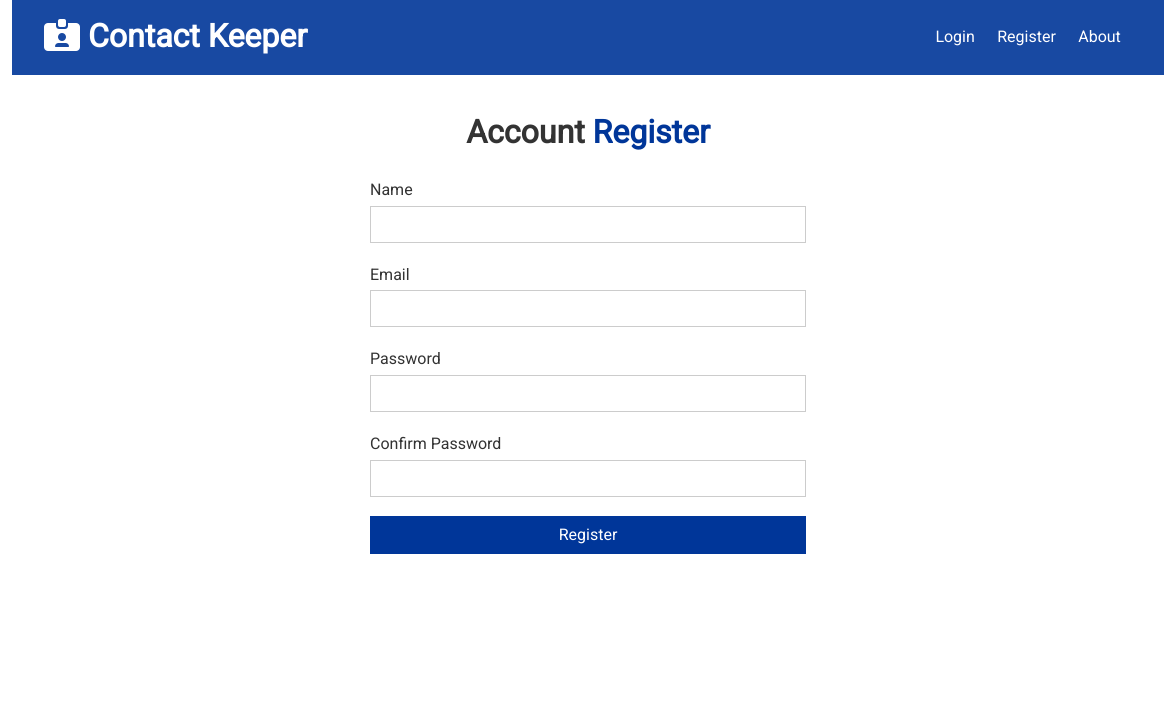
Test: Register User › should allow user to register successfully
The width and height of the screenshot is (1176, 720).
Type "Harry Potter" into the field with test id "register-name". click: x=588, y=224
box: [370,206,806,242]
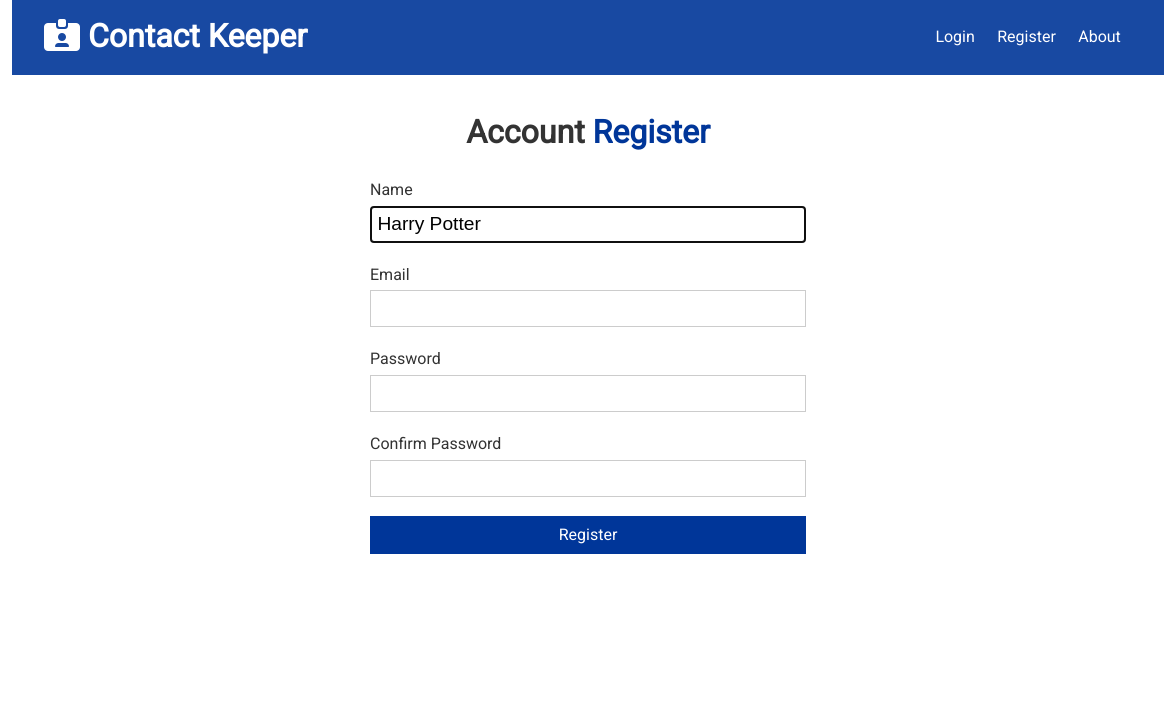
Type "hpotter@nascentpixels.io" into the field with test id "register-email". click: x=588, y=309
box: [370,290,806,327]
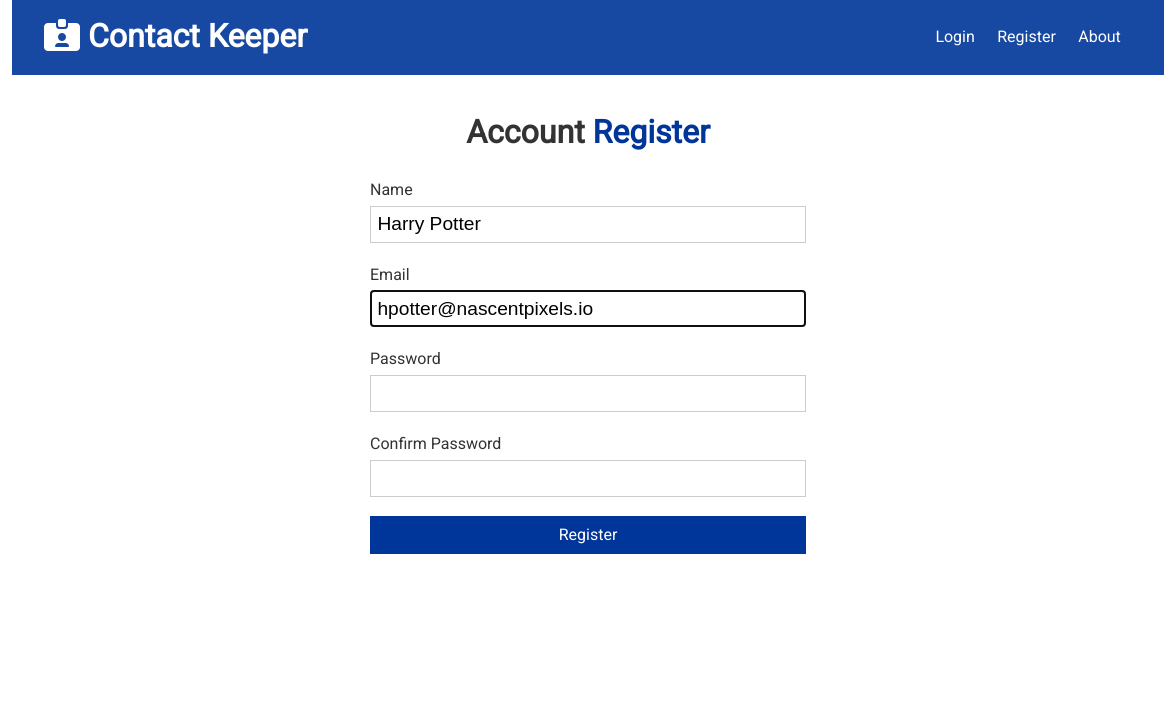
Type "abc123" into the password field with test id "register-password". click: x=588, y=394
box: [370,375,806,412]
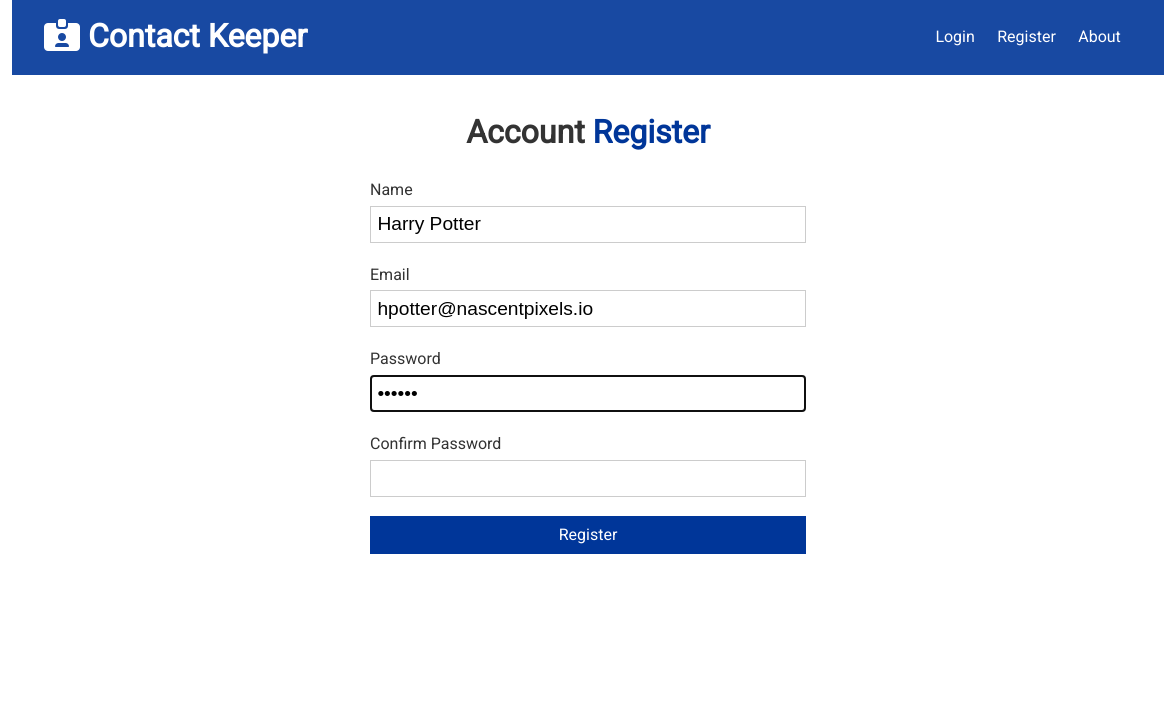
Type "abc123" into the password field with test id "register-password2". click: x=588, y=478
box: [370,460,806,497]
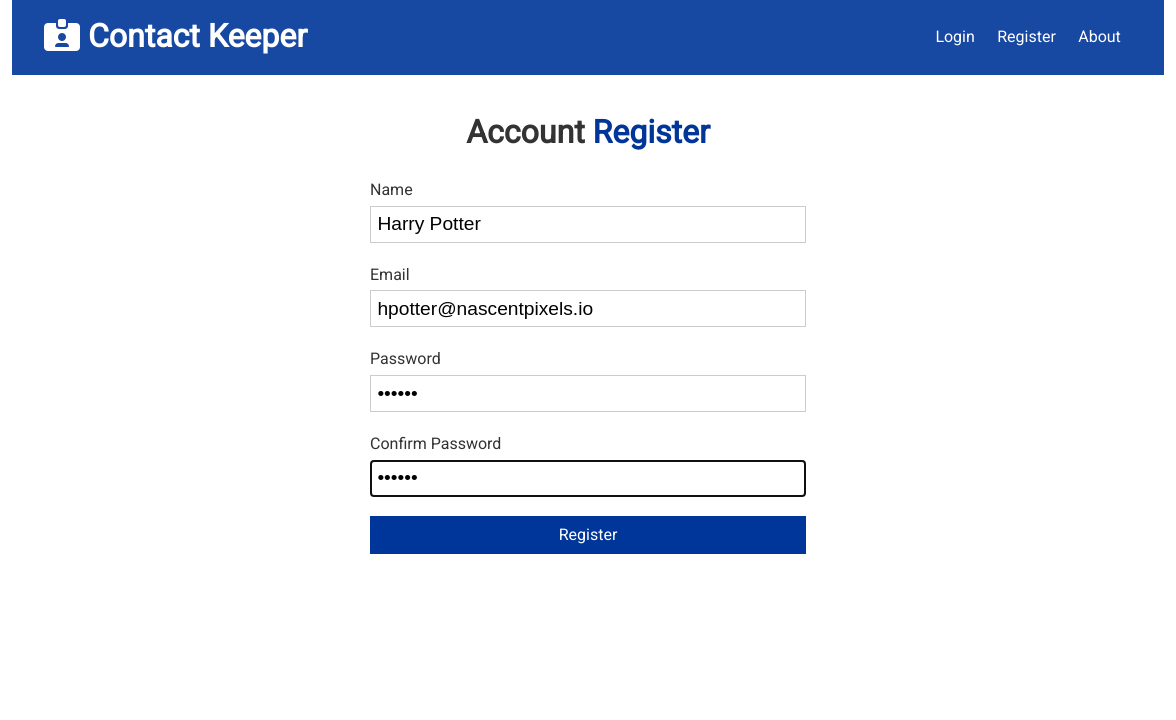
Click the button with test id "submit-register". click: x=588, y=535
box: [370,516,806,554]
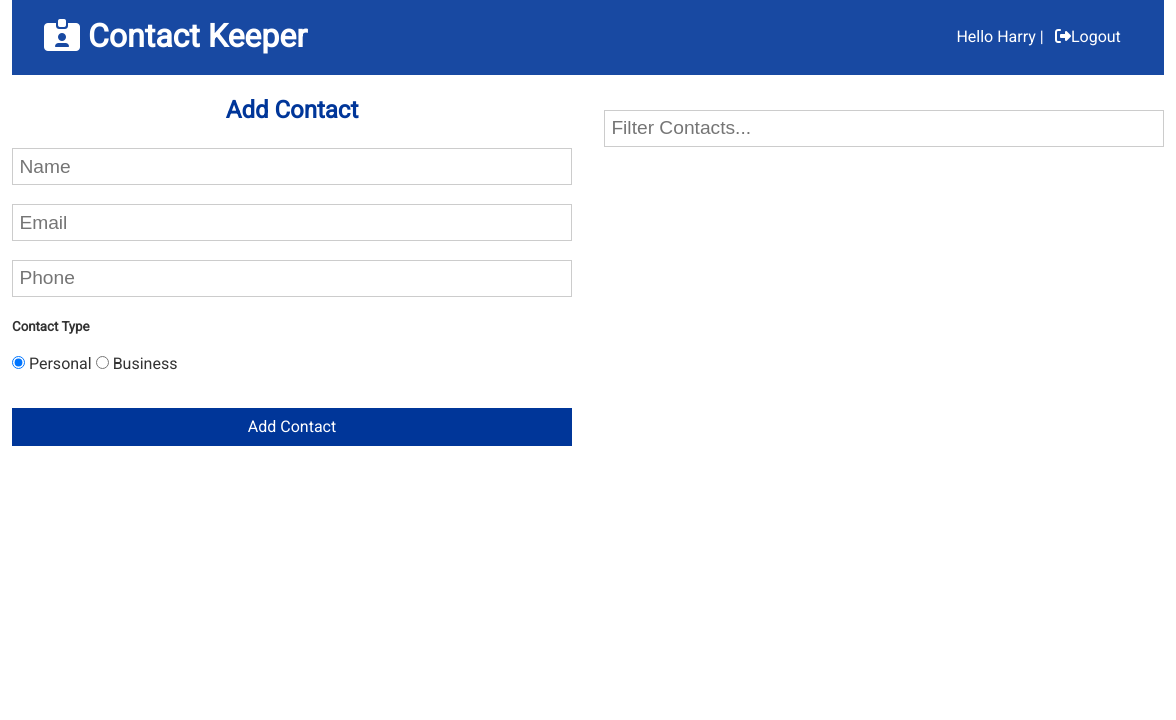
Expected: the list item "Hello Harry |" is shown, [956,24,1044,50]
